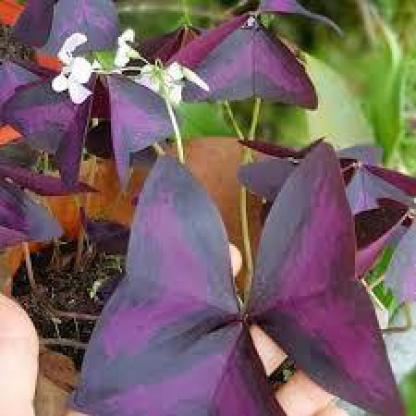Kupu-Kupu: (134, 151, 376, 415), (1, 1, 194, 137), (173, 1, 319, 127)
